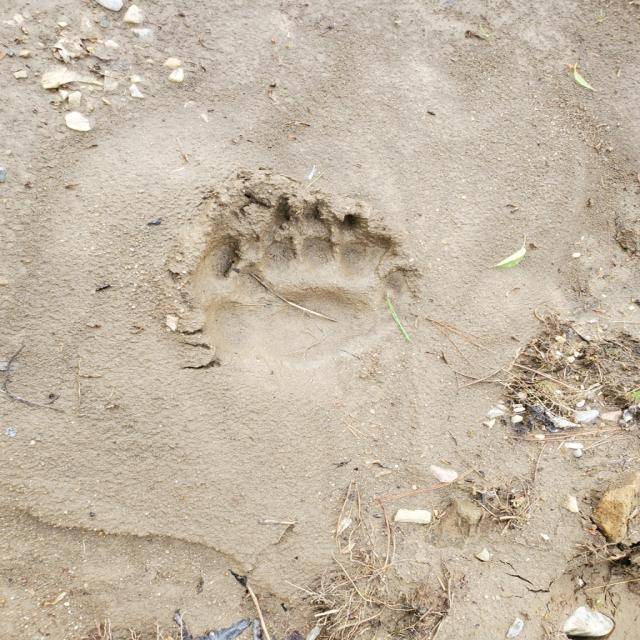bear: (215, 200, 415, 356)
